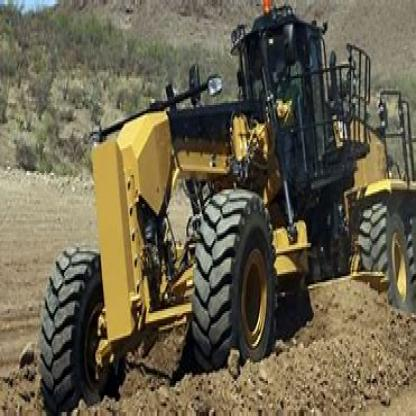bull_dozer/loader/grader: (38, 6, 415, 398)
